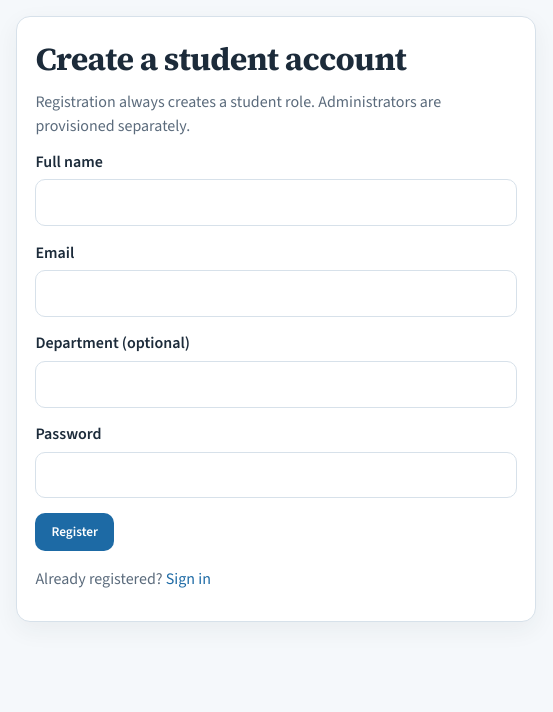
Test: validates registration fields
The width and height of the screenshot is (553, 712).
Click the button "Register" at (75, 532), box left=35, top=513, right=114, bottom=551
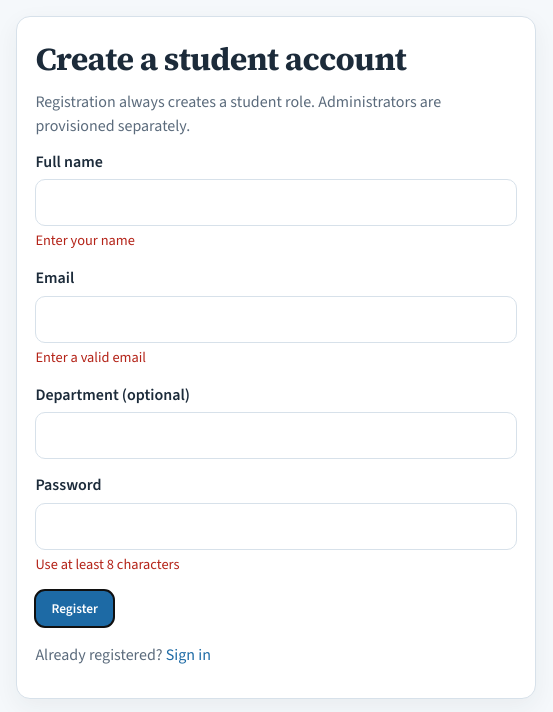
Result: the text "Enter your name" is shown at left=35, top=231, right=135, bottom=250
Result: the text "Enter a valid email" is shown at left=35, top=348, right=146, bottom=366
